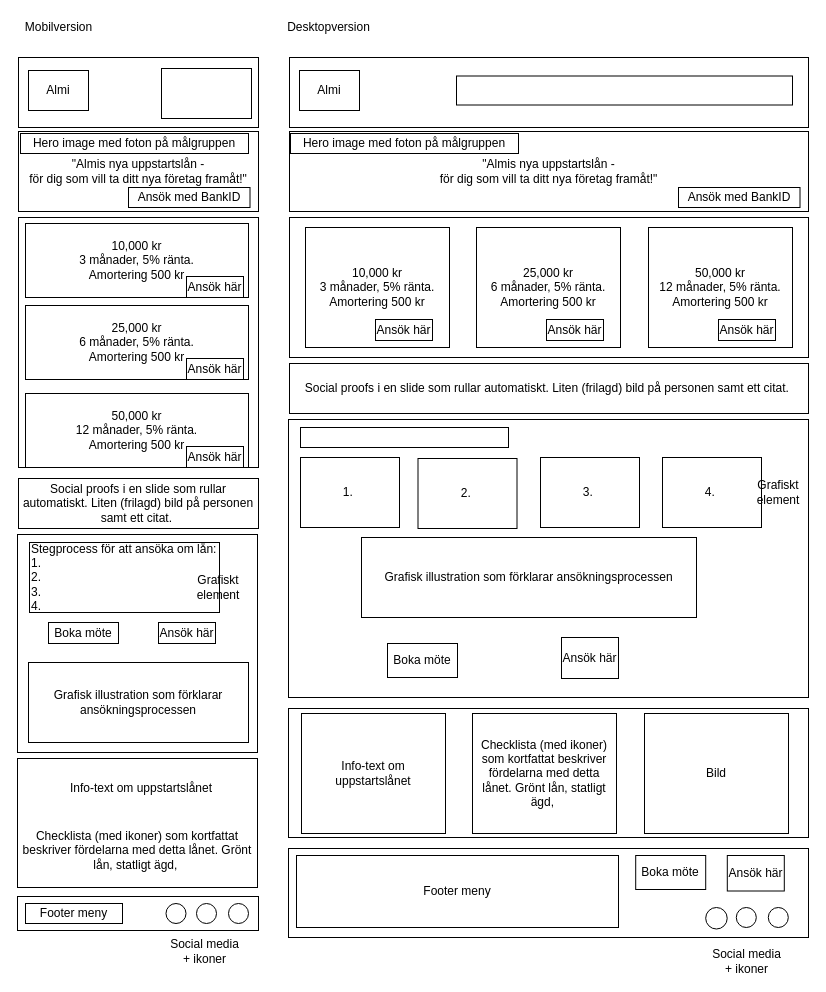
Image size: 826x992. Some labels were removed from this diagram. The centre of each missing label's shape, as x and y in pixels:
"Hamburger meny" goes at point 206,93.
"Navigation" goes at point 624,90.
"Stegprocess för att ansöka om lån:" goes at point 404,437.
